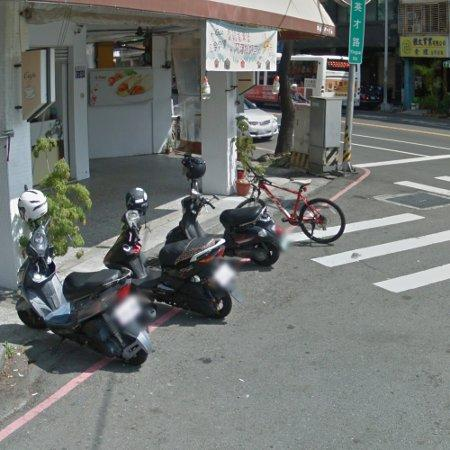crosswalks: (283, 211, 450, 306)
